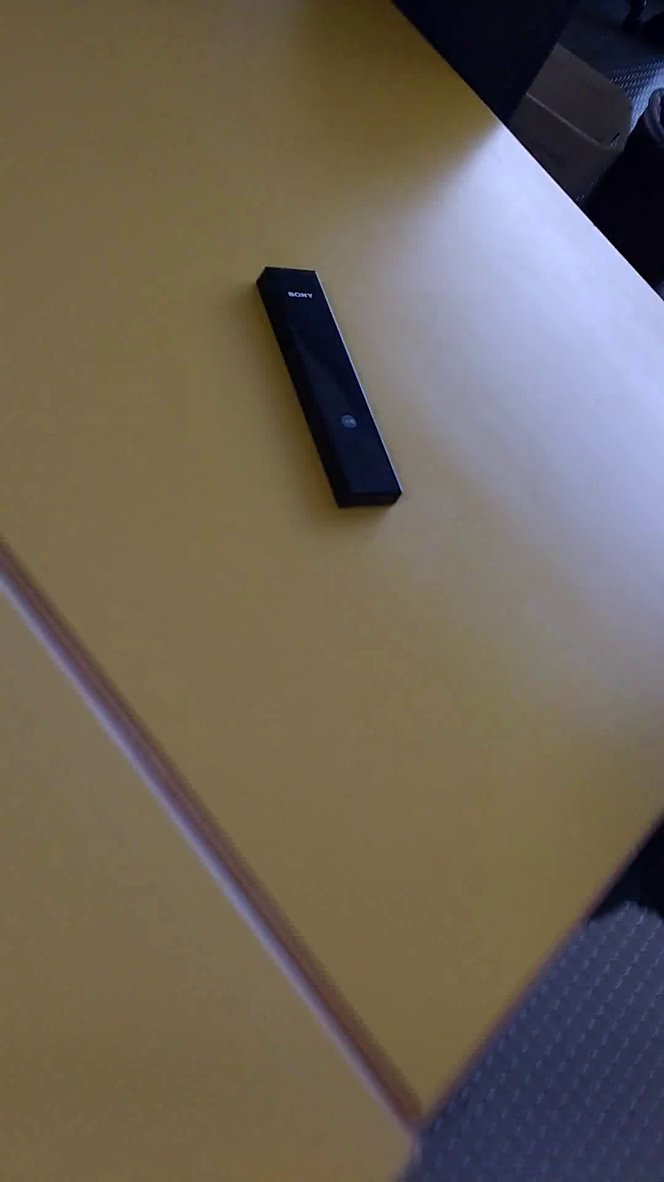remote: (253, 255, 415, 523)
